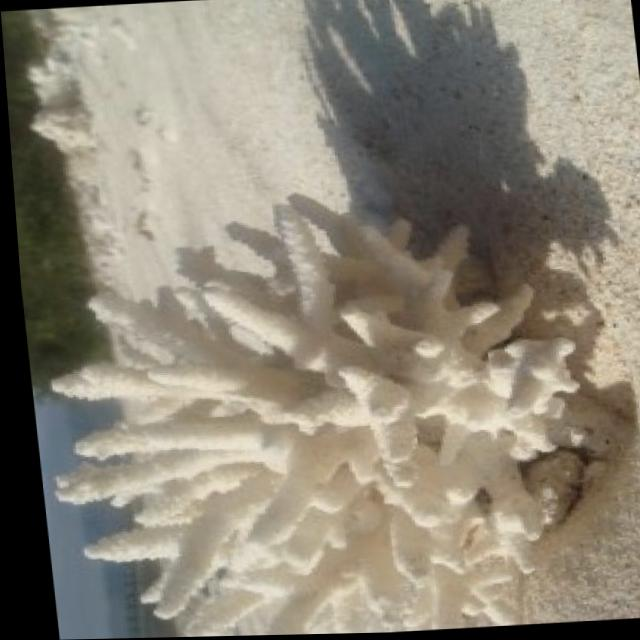Bleached Coral: (18, 175, 617, 640)
